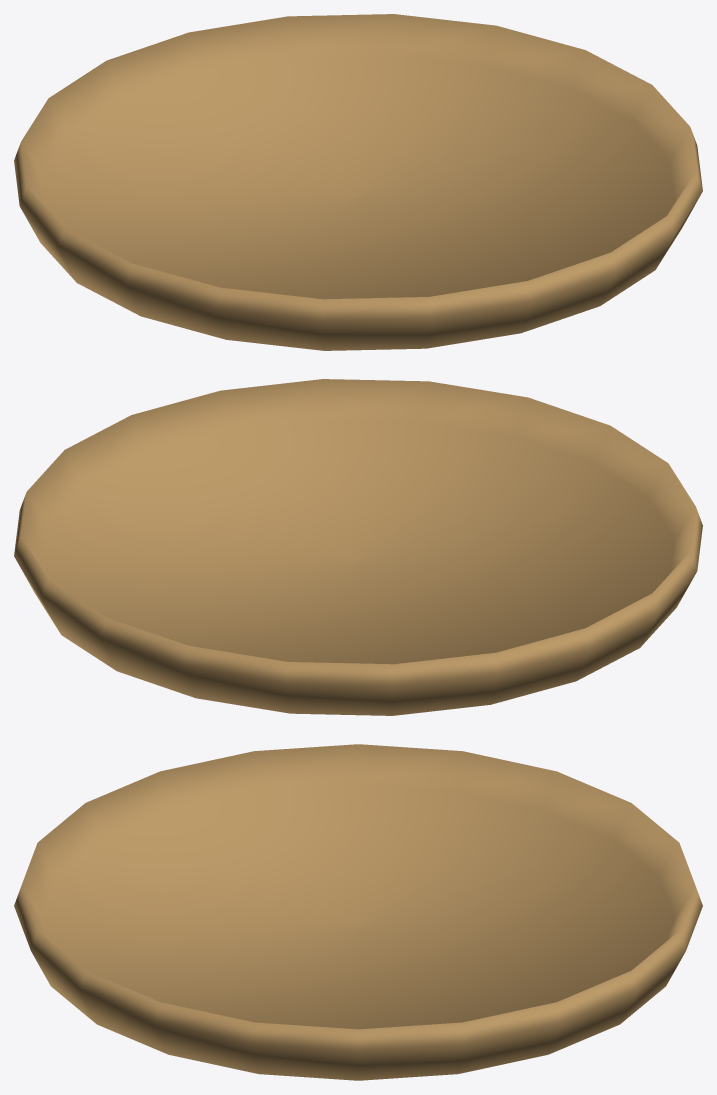
File: winnowing-tray-normal.glb
The picture shows the model from 3 angles, top to bottom: view 1: azimuth 30°, elevation 25°; view 2: azimuth 150°, elevation 25°; view 3: azimuth 270°, elevation 25°; orthographic projection.
Parts seen in each view (by area): view 1: winnowing-tray; view 2: winnowing-tray; view 3: winnowing-tray.
Boxes of the visible parts, left/top/right/bottom form: winnowing-tray: left=14, top=14, right=702, bottom=350; winnowing-tray: left=14, top=379, right=702, bottom=715; winnowing-tray: left=14, top=744, right=702, bottom=1080.
Bounding box in the file's own units: 0.98 × 0.09 × 0.98.
